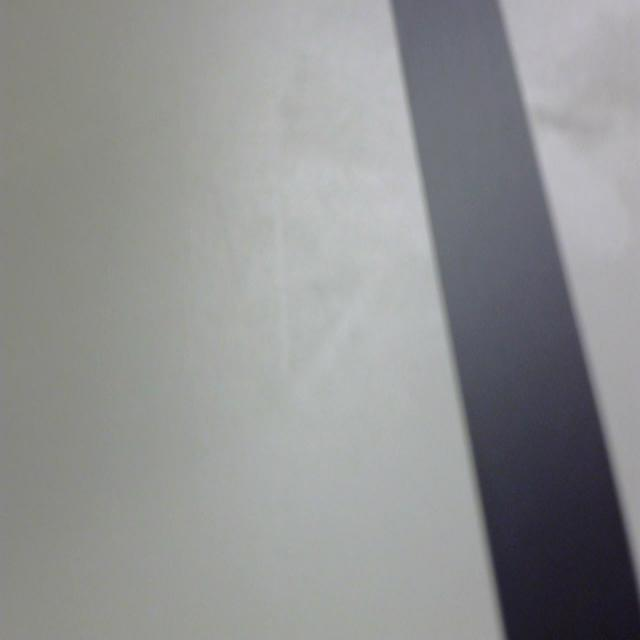tape: (355, 0, 640, 640)
